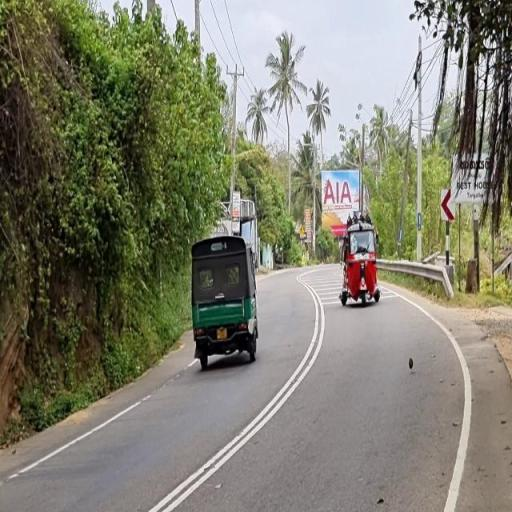double_white_line: (142, 282, 325, 511)
